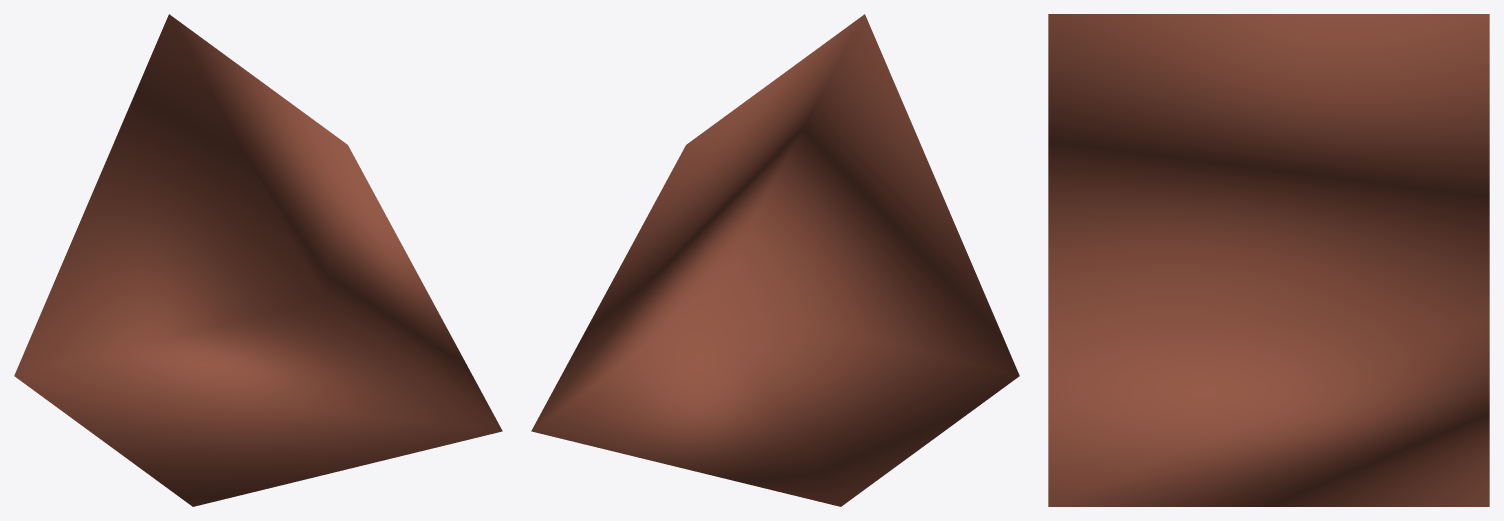
Rendered from FacadeKit_GableRoofTerracotta_LOD2.glb.
The picture shows the model from 3 angles, left to right: view 1: azimuth 30°, elevation 25°; view 2: azimuth 150°, elevation 25°; view 3: azimuth 270°, elevation 25°; orthographic projection. The views are drawn at different scales.
Parts seen in each view (by area): view 1: FacadeKit_GableRoofTerracotta_LOD2; view 2: FacadeKit_GableRoofTerracotta_LOD2; view 3: FacadeKit_GableRoofTerracotta_LOD2.
Part boxes in pixels (x1,y1,x2,y2): FacadeKit_GableRoofTerracotta_LOD2: [14, 14, 502, 506]; FacadeKit_GableRoofTerracotta_LOD2: [531, 14, 1019, 506]; FacadeKit_GableRoofTerracotta_LOD2: [1048, 14, 1489, 506].
Bounding box in the file's own units: 1 × 1 × 1.
